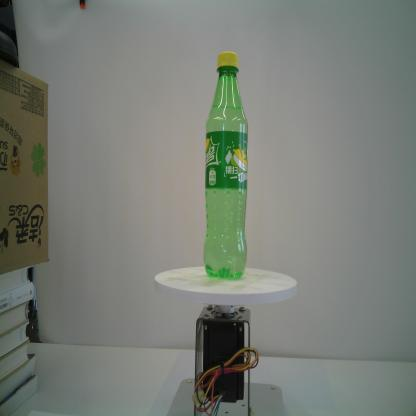Drink: (202, 48, 249, 282)
